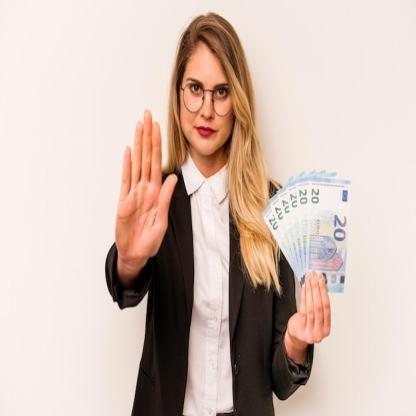stop: (117, 106, 179, 268)
